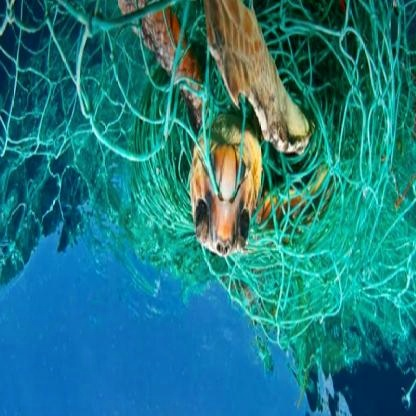net: (283, 8, 416, 376), (9, 1, 189, 233)
